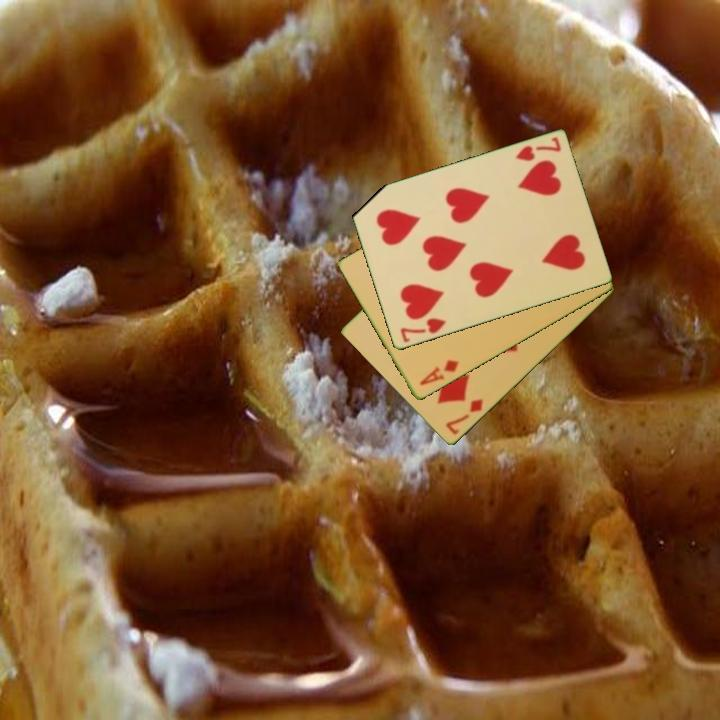7d: (442, 395, 486, 438)
7h: (397, 315, 449, 346), (512, 134, 564, 165)
Ad: (416, 357, 462, 389)
